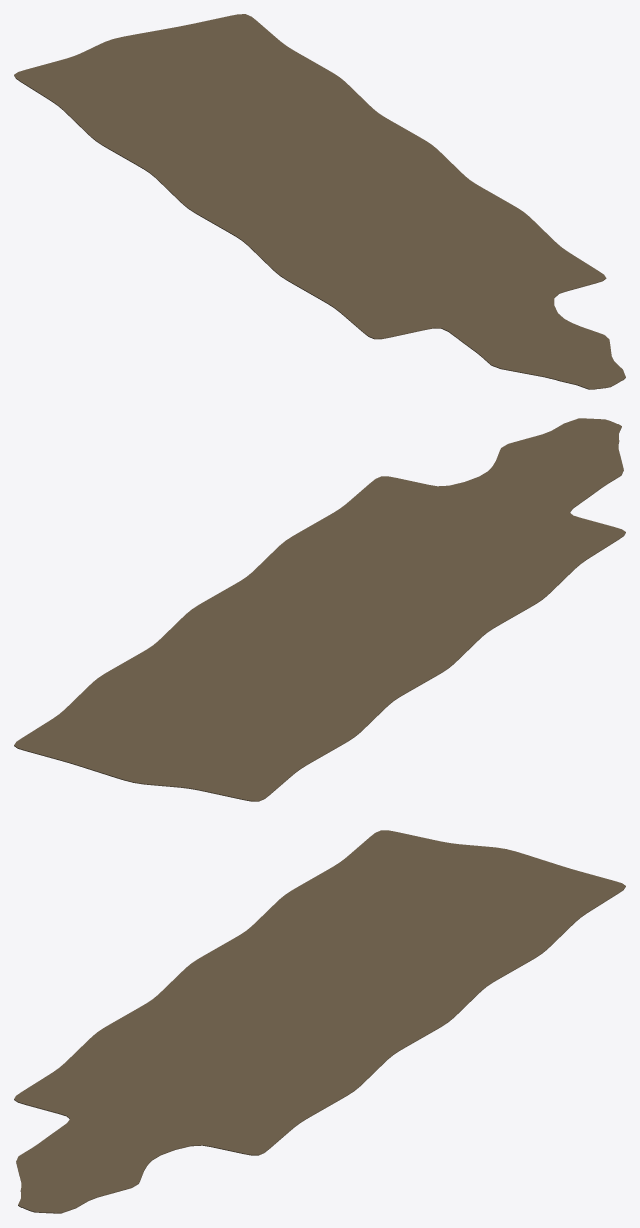
Rendered from ylanderisi (1).fbx.
3 views of the same model, one above another, from view 1: azimuth 30°, elevation 25°; view 2: azimuth 150°, elevation 25°; view 3: azimuth 330°, elevation 25° (orthographic).
Visible parts, largest first — view 1: Plane.007; view 2: Plane.007; view 3: Plane.007.
Part boxes in pixels (x1=…): Plane.007: x1=14, y1=14, x2=625, y2=389; Plane.007: x1=14, y1=418, x2=625, y2=801; Plane.007: x1=14, y1=830, x2=625, y2=1213.
Size of the model in its own units: 147 by 0.4561 by 494.
